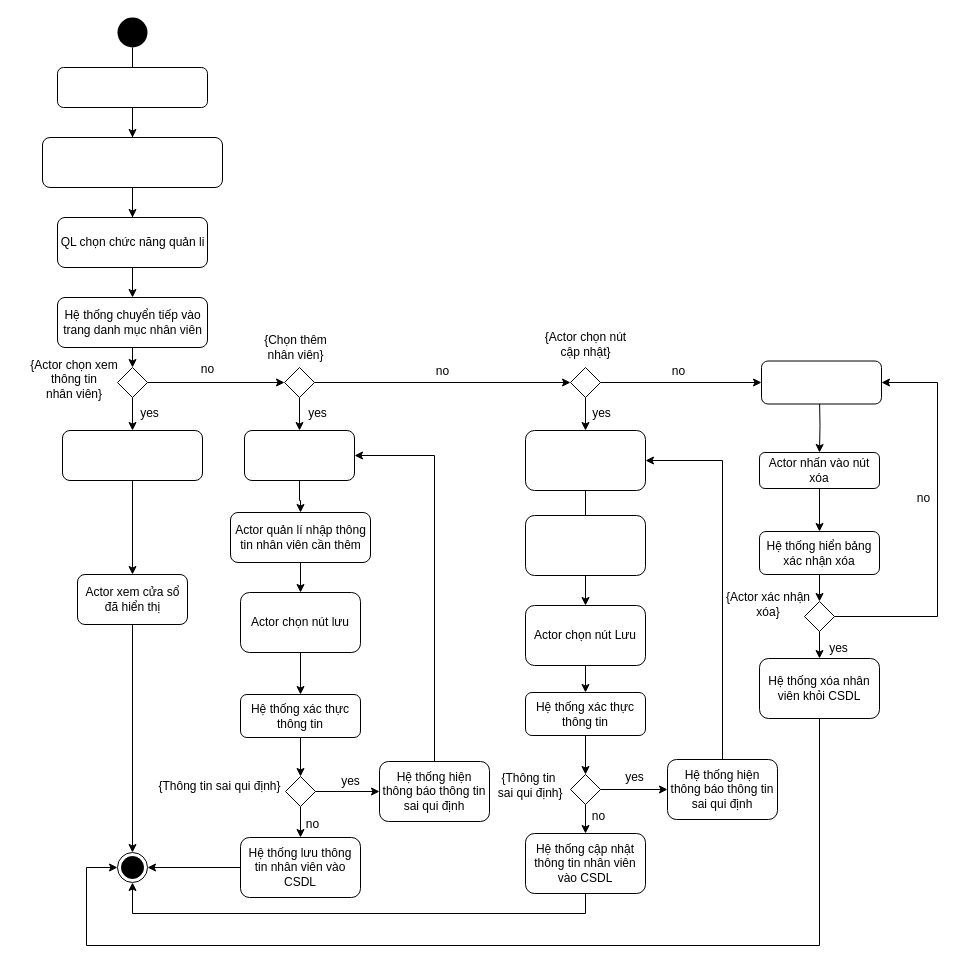
Image size: 963x971. Some labels were removed from this diagram. Here are the shapes that lost their labels. From the top down, the box of each, then its label:
(56, 66, 208, 108): QL đăng nhập vào hệ thống
(42, 136, 222, 188): Hệ thống hiển thị trang chủ và các chức năng để QL chọn
(760, 360, 882, 404): Actor chọn nhân viên muốn xóa
(62, 430, 202, 480): Hệ thống hiển thị cửa sổ thông tin nhân viên
(244, 430, 354, 480): Hệ thống hiển thị form thêm nhận viên
(524, 430, 646, 490): Hệ thống hiển thị form cập nhật
(524, 514, 646, 576): Actor thay đổi thông tin cần thay đổi
